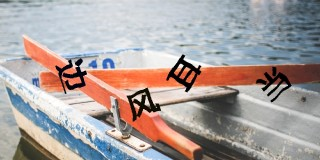当: (256, 66, 292, 102)
耳: (167, 54, 202, 92)
边: (55, 57, 88, 94)
风: (126, 86, 162, 122)
